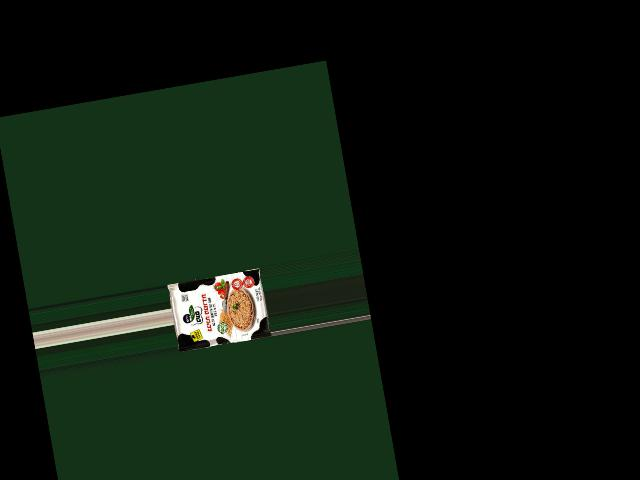cheese: (172, 257, 267, 352)
